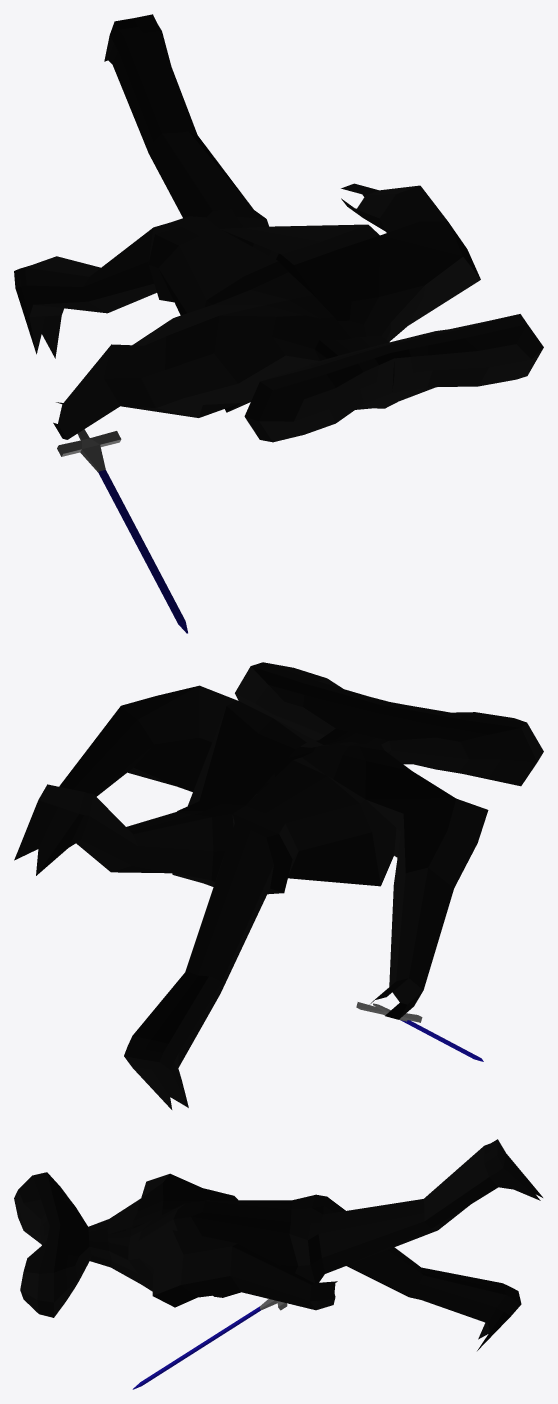
The model's file is SwordsMan3w.obj.
3 views of the same model, one above another, from view 1: azimuth 30°, elevation 25°; view 2: azimuth 150°, elevation 25°; view 3: azimuth 270°, elevation 25° (orthographic). The views are drawn at different scales.
Visible parts, largest first — view 1: Cube, Cube.001_Sword; view 2: Cube, Cube.001_Sword; view 3: Cube, Cube.001_Sword.
Part boxes in pixels (bbox=[...]): Cube: bbox=[14, 14, 543, 442]; Cube.001_Sword: bbox=[57, 429, 187, 633]; Cube: bbox=[14, 662, 543, 1109]; Cube.001_Sword: bbox=[356, 1002, 483, 1061]; Cube: bbox=[14, 1139, 542, 1350]; Cube.001_Sword: bbox=[132, 1299, 287, 1389].
Size of the model in its own units: 0.9194 by 1 by 1.54.
